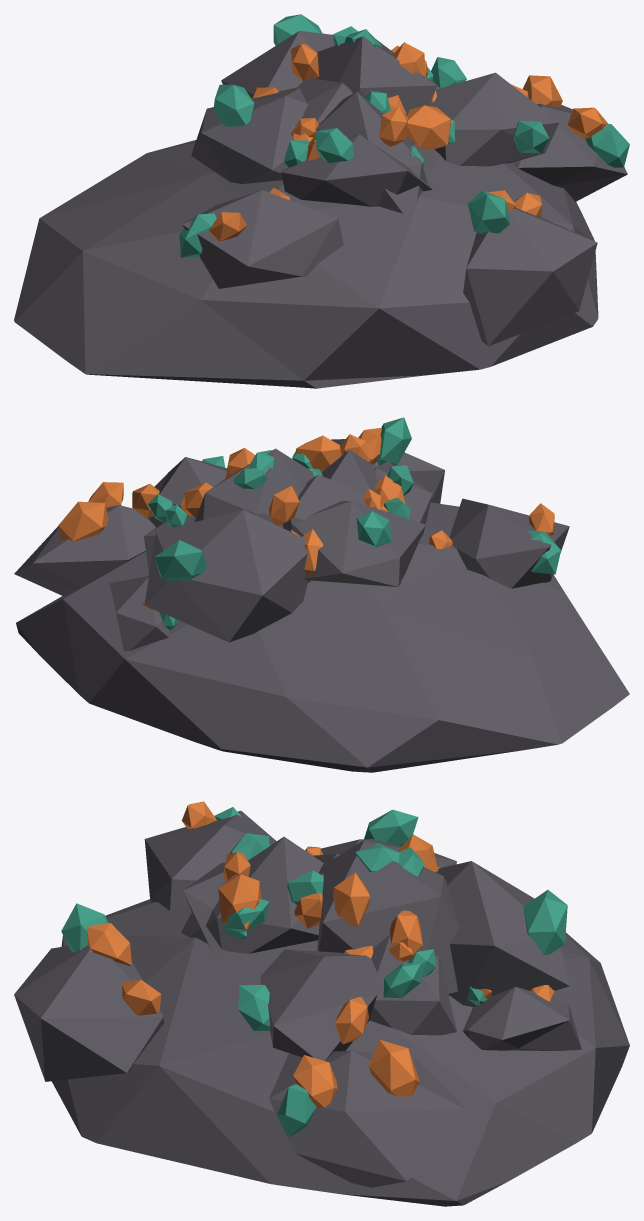
The model's file is Res_OrePile_Copper.fbx.
3 views of the same model, one above another, from view 1: azimuth 30°, elevation 25°; view 2: azimuth 150°, elevation 25°; view 3: azimuth 270°, elevation 25° (orthographic). The views are drawn at different scales.
Parts seen in each view (by area): view 1: Res_OrePile_Copper; view 2: Res_OrePile_Copper; view 3: Res_OrePile_Copper.
Part boxes in pixels (<box>): Res_OrePile_Copper: <box>14,14,629,388</box>; Res_OrePile_Copper: <box>14,417,629,772</box>; Res_OrePile_Copper: <box>14,801,629,1206</box>.
Bounding box in the file's own units: 1.08 × 0.3877 × 0.8925.
